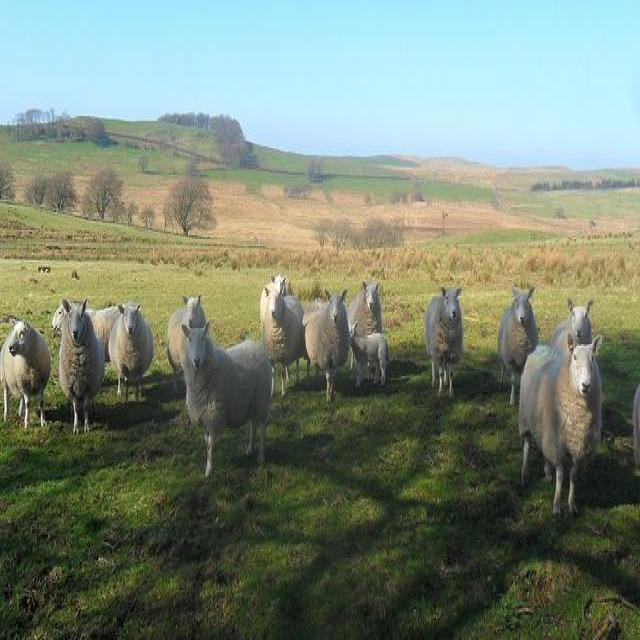Sheep: (304, 278, 639, 471), (519, 332, 606, 520), (182, 323, 273, 476), (58, 291, 109, 438), (1, 317, 52, 430), (302, 287, 350, 403), (262, 284, 309, 398), (106, 301, 154, 403), (499, 284, 539, 406), (167, 292, 207, 401), (427, 287, 464, 399), (350, 321, 390, 389)
